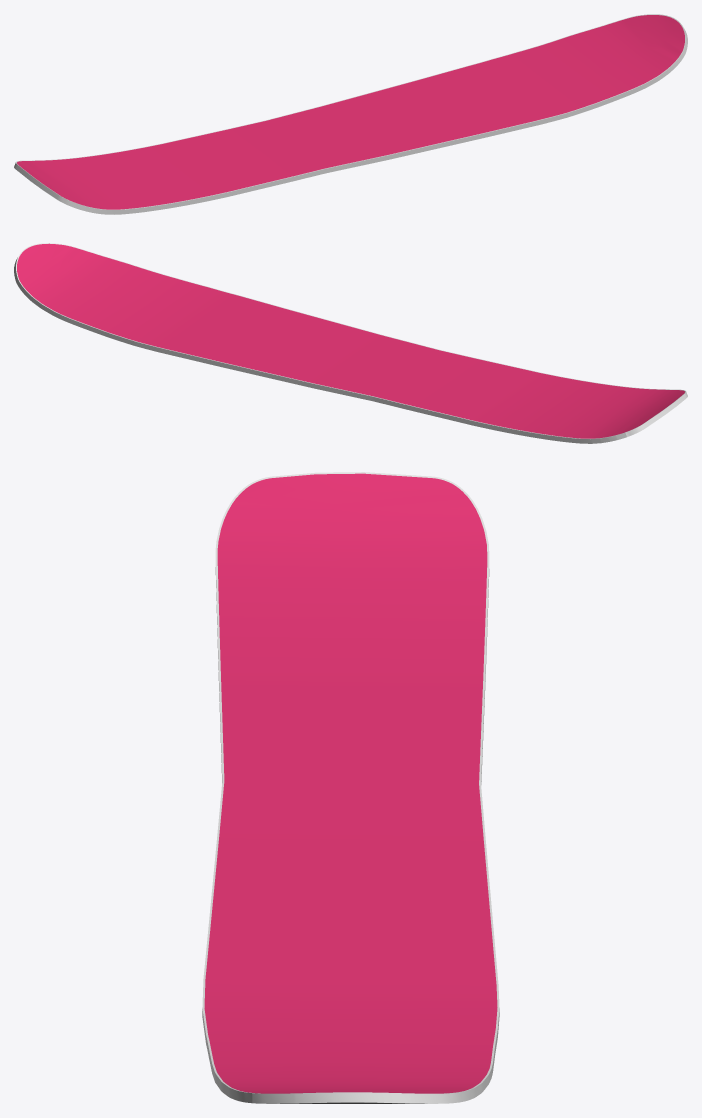
Rendered from board_tapered_rocker.gltf.
The picture shows the model from 3 angles, top to bottom: view 1: azimuth 30°, elevation 25°; view 2: azimuth 150°, elevation 25°; view 3: azimuth 270°, elevation 25°; orthographic projection. The views are drawn at different scales.
Visible parts, largest first — view 1: board-top, board-edge; view 2: board-top, board-edge; view 3: board-top, board-edge.
Part boxes in pixels (x1,y1,x2,y2): board-top: (17, 15, 684, 209); board-edge: (14, 14, 687, 214); board-top: (17, 243, 684, 438); board-edge: (14, 243, 687, 443); board-top: (204, 473, 497, 1093); board-edge: (202, 472, 499, 1103).
Bounding box in the file's own units: 1.47 × 0.0792 × 0.2932.
